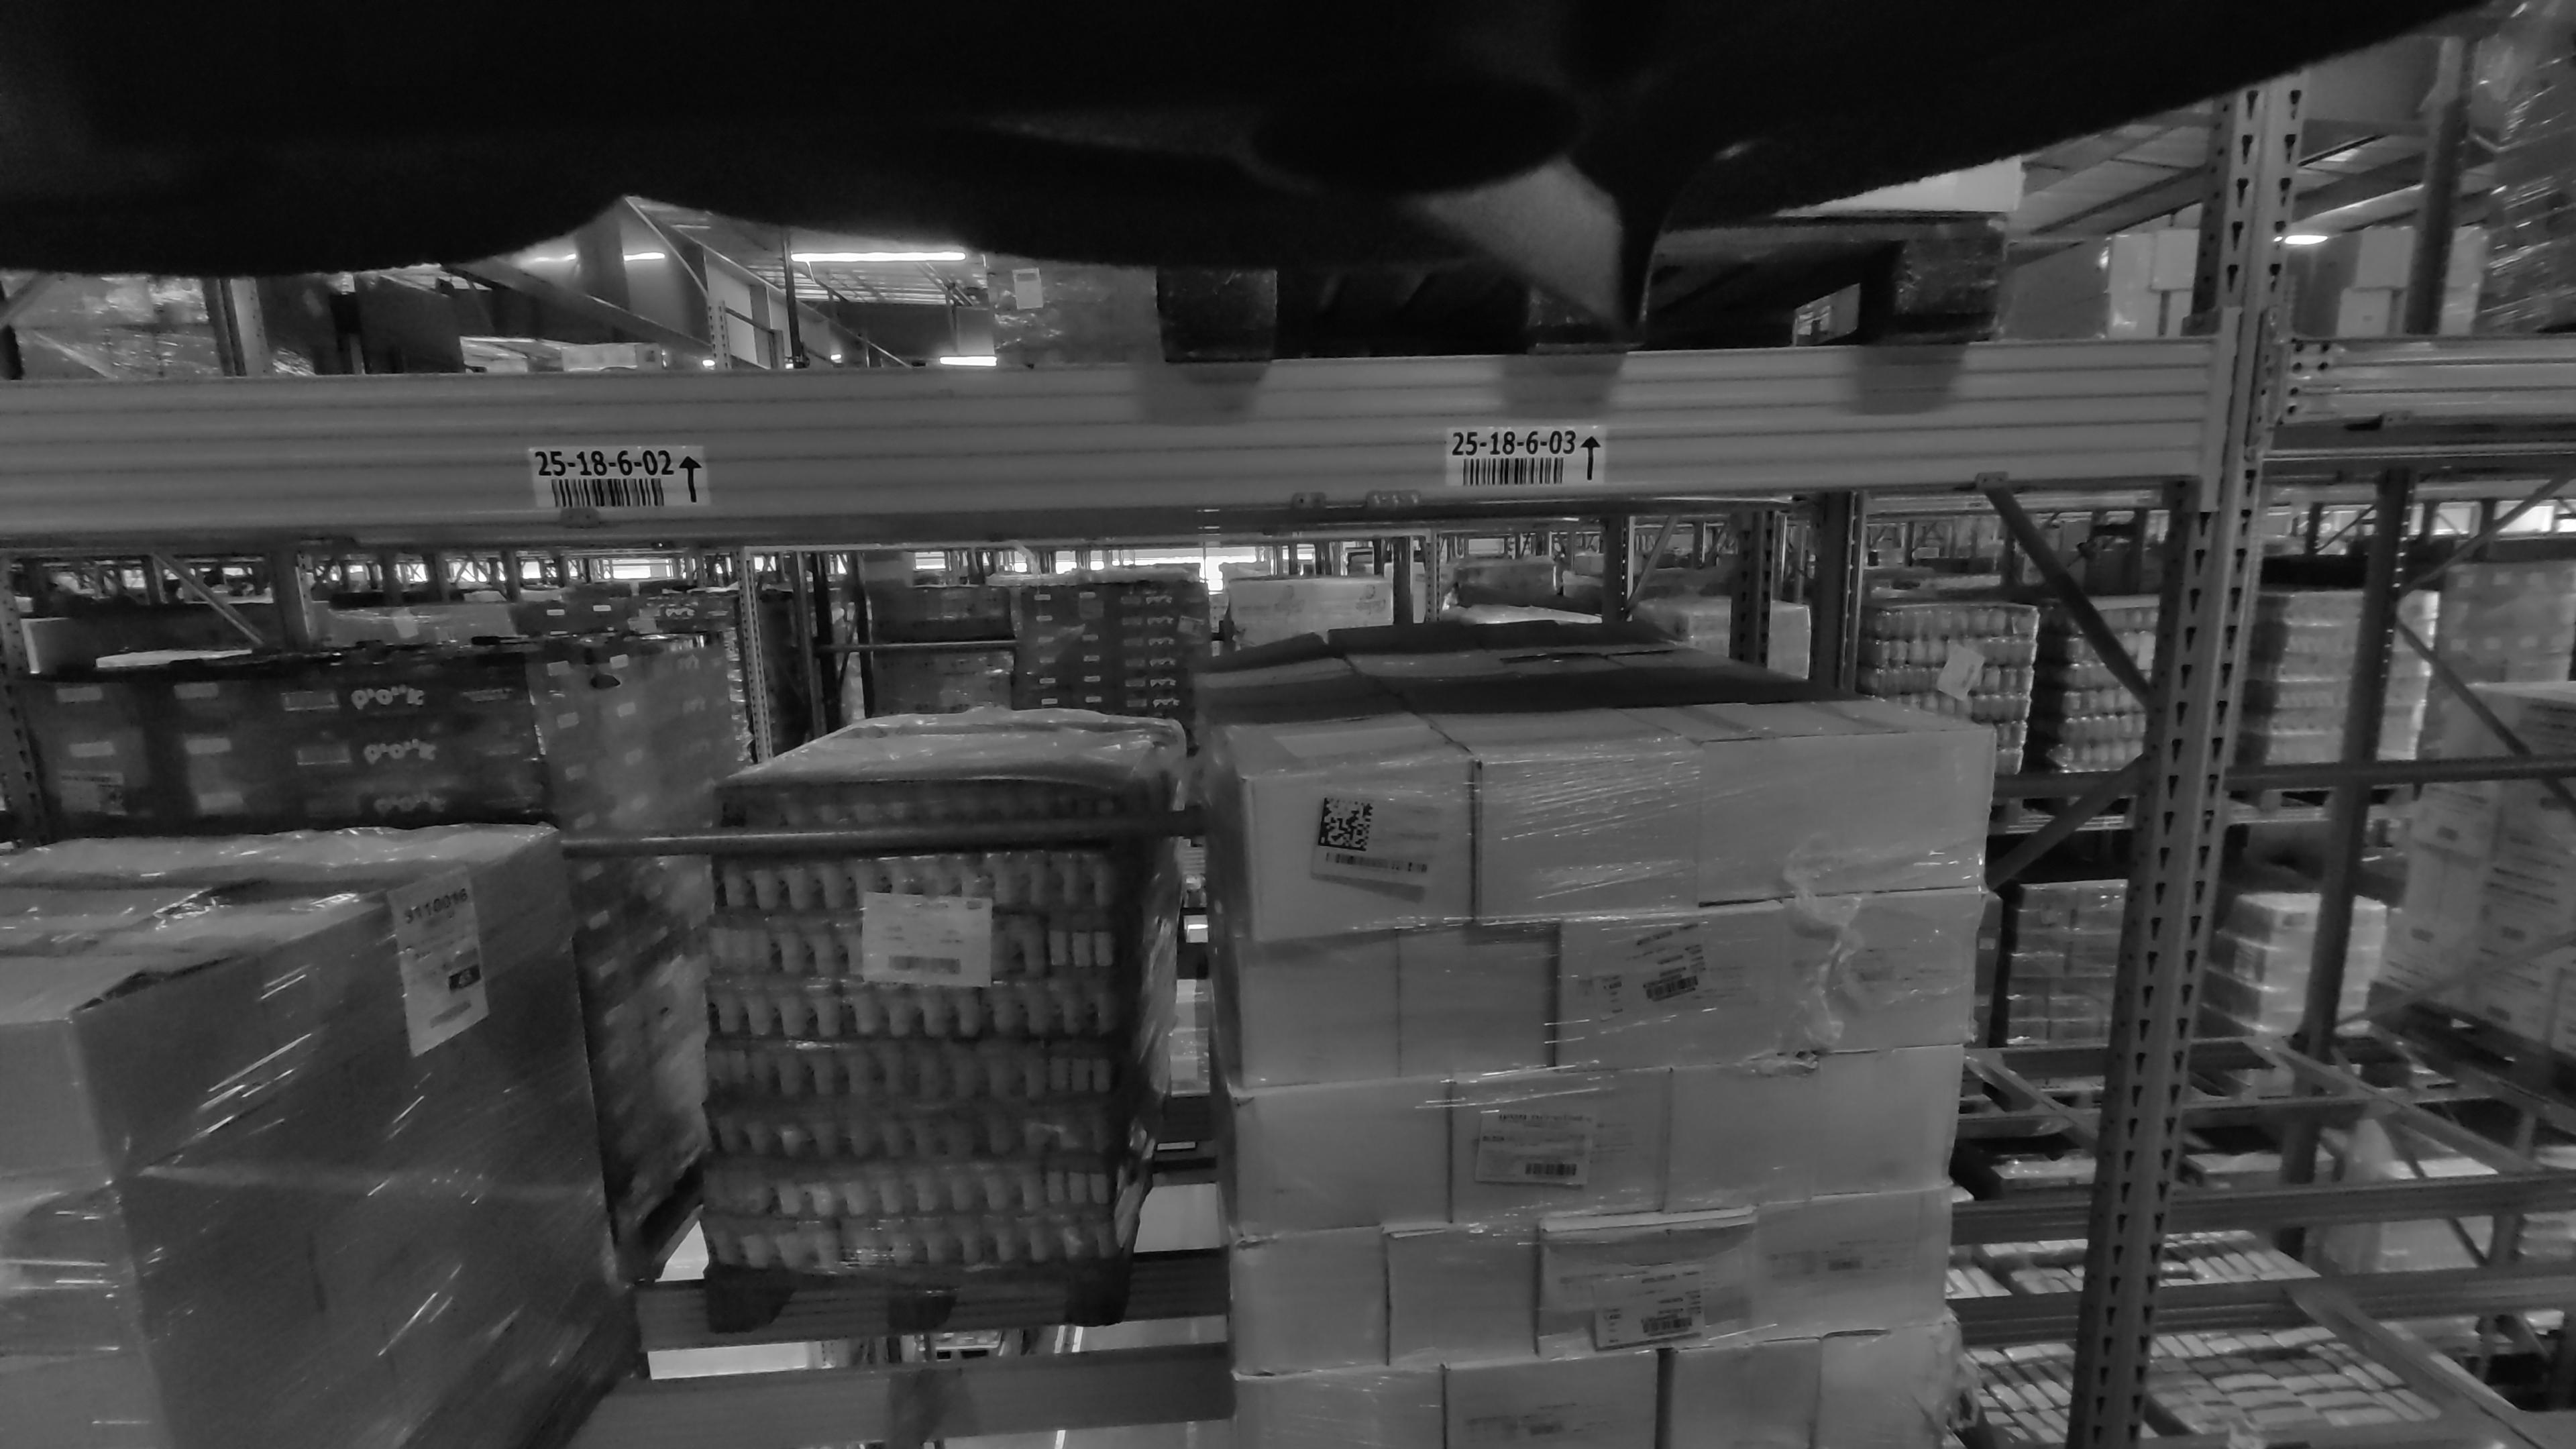empty-shelf: (649, 563, 1099, 1449), (2252, 432, 2576, 1449), (2226, 497, 2511, 1184), (92, 205, 971, 379)
